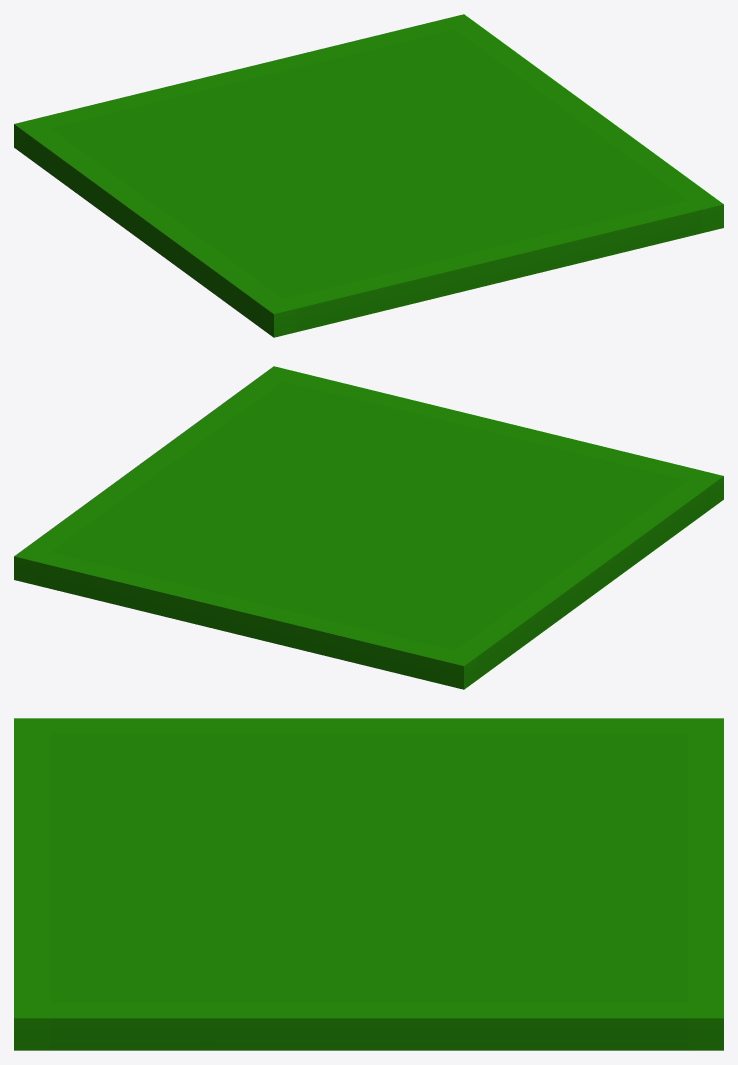
Rendered from grass.obj.
The picture shows the model from 3 angles, top to bottom: view 1: azimuth 30°, elevation 25°; view 2: azimuth 150°, elevation 25°; view 3: azimuth 270°, elevation 25°; orthographic projection. The views are drawn at different scales.
Parts seen in each view (by area): view 1: base; view 2: base; view 3: base.
Boxes of the visible parts, x1,y1,x2,y2 form: base: (14, 14, 723, 337); base: (14, 366, 723, 689); base: (14, 718, 723, 1050).
Bounding box in the file's own units: 2 × 0.1 × 2.
1 material, 1 textured.
